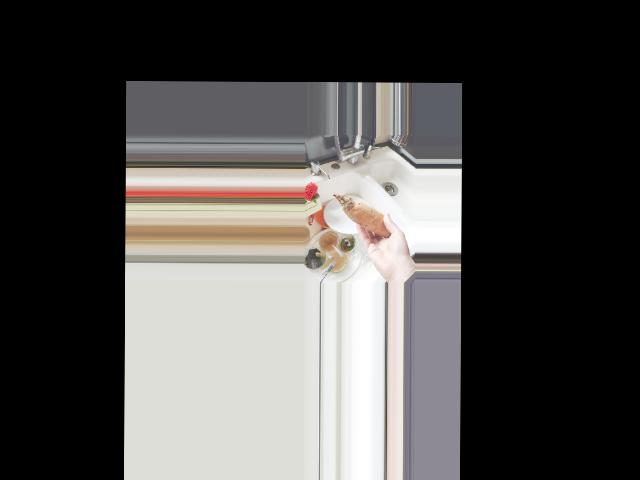sweet_potato: (331, 193, 395, 241)
